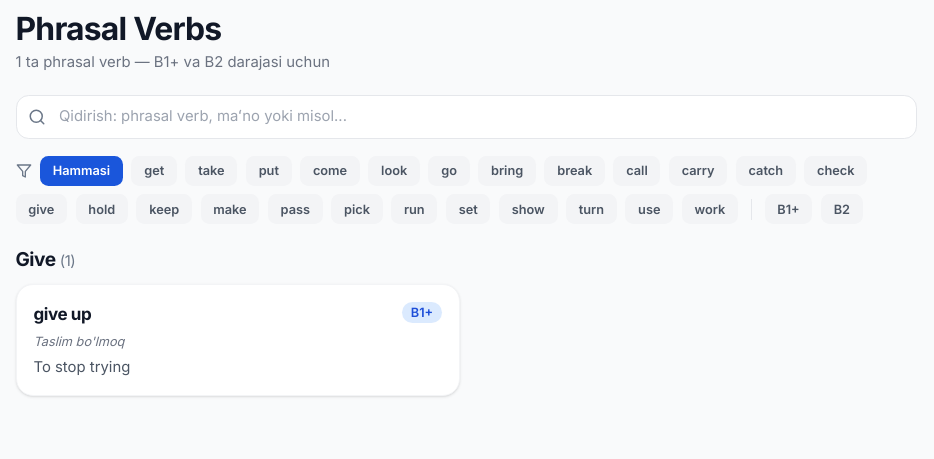
Test: PhrasalVerbs › filters by verb chip
// Click on 'get' filter — 'give up' should disappear
Click the button "get" at (154, 171), box [132, 156, 177, 186]
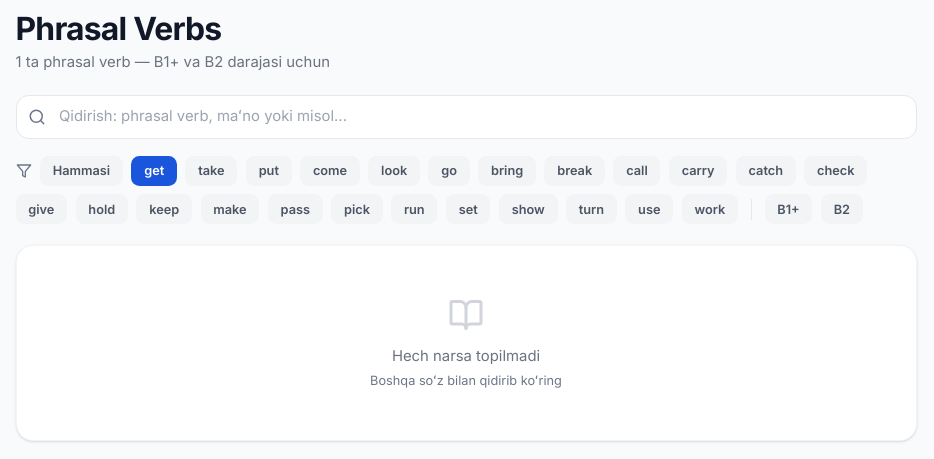
expect the button "give up" is gone: met
